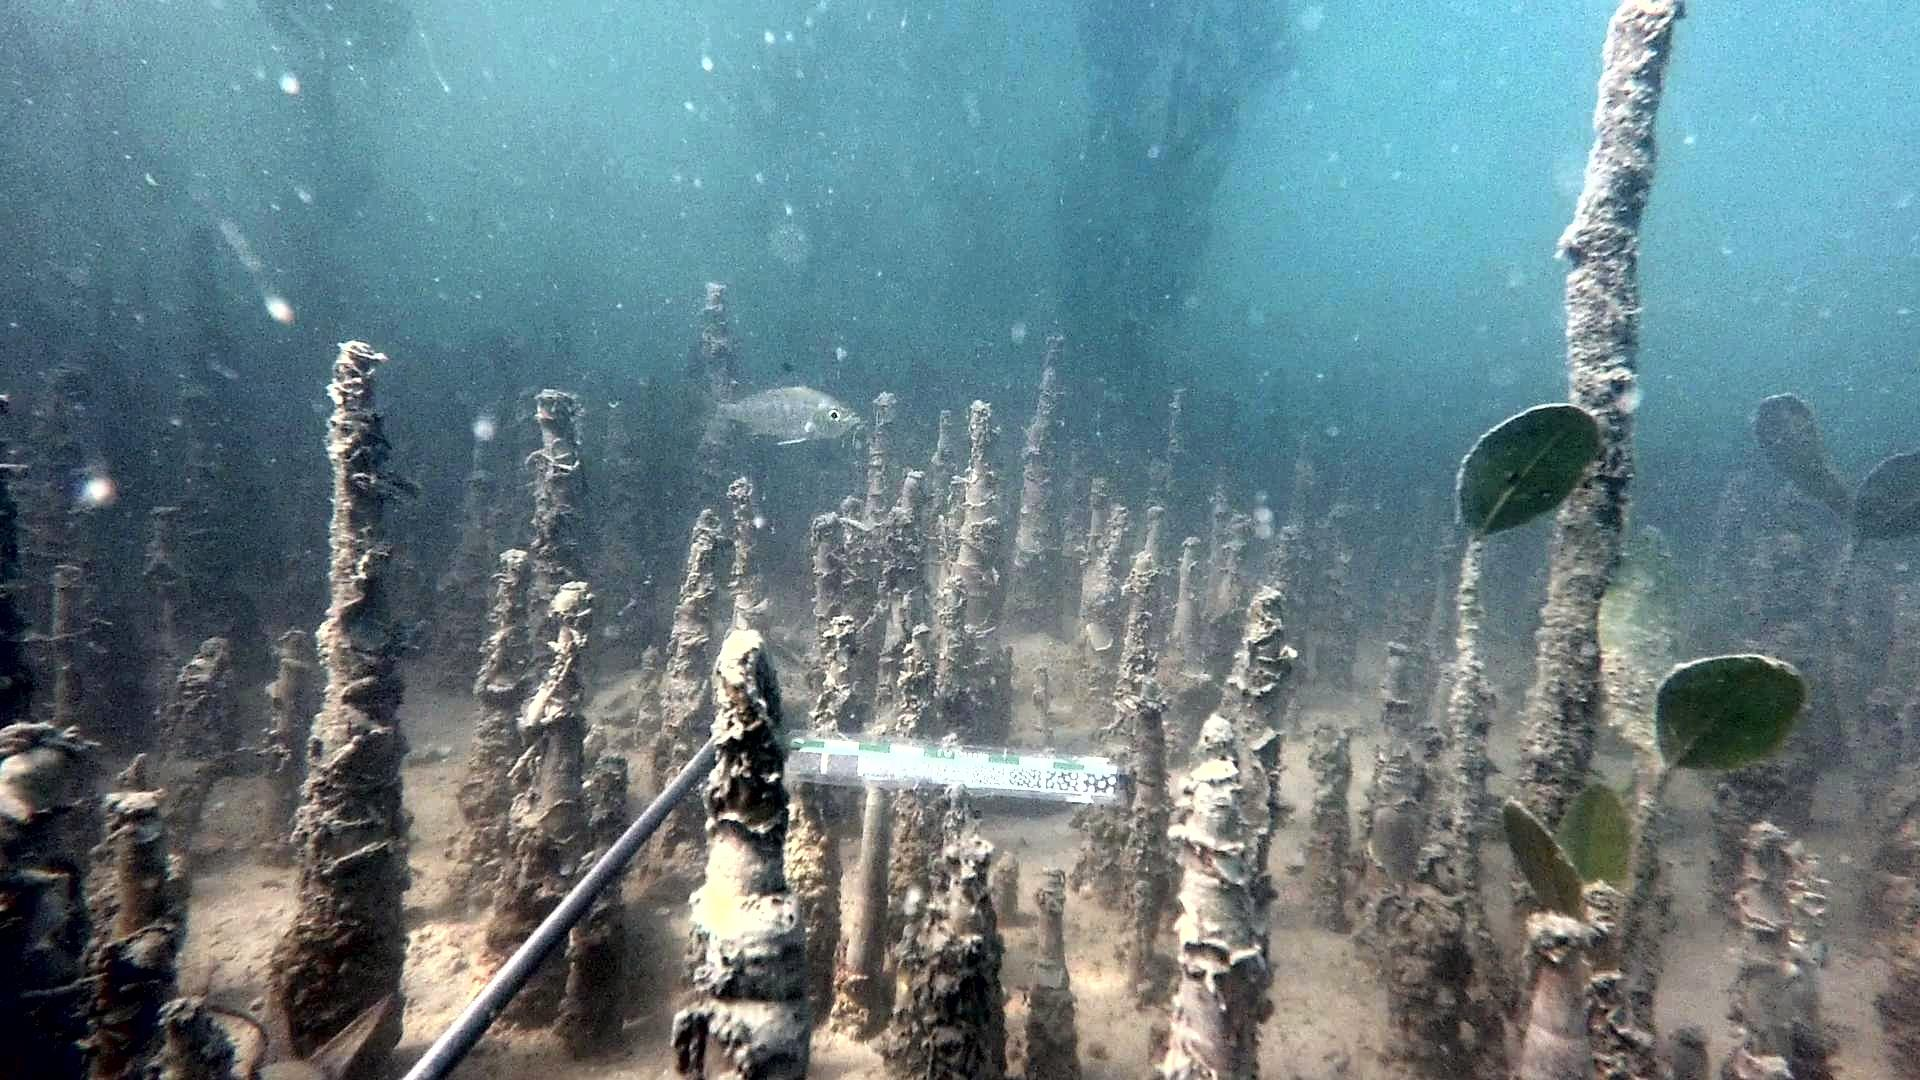gerres: (682, 359, 864, 447)
